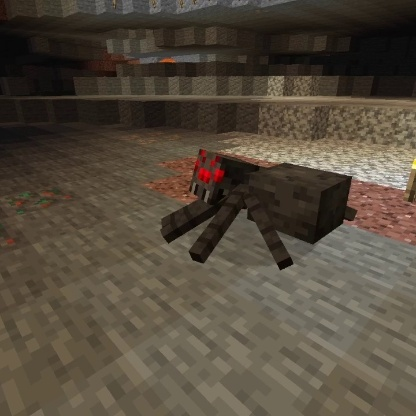spider: (156, 145, 361, 273)
